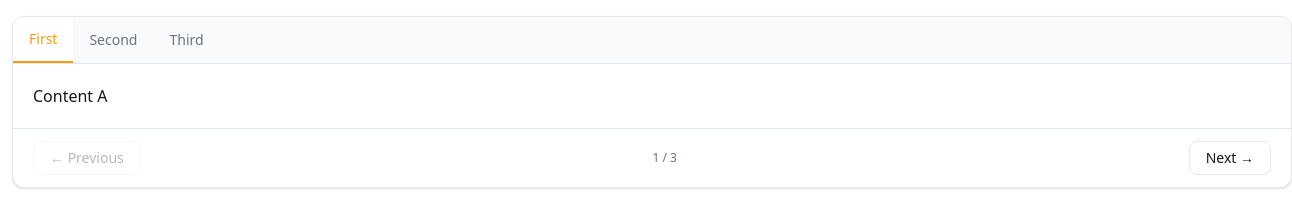
it: TC-19.1.6 Next button advances to next step
Step 1. Click the button "Next →" → (1230, 158), box top-left (1189, 141), bottom-right (1271, 175)
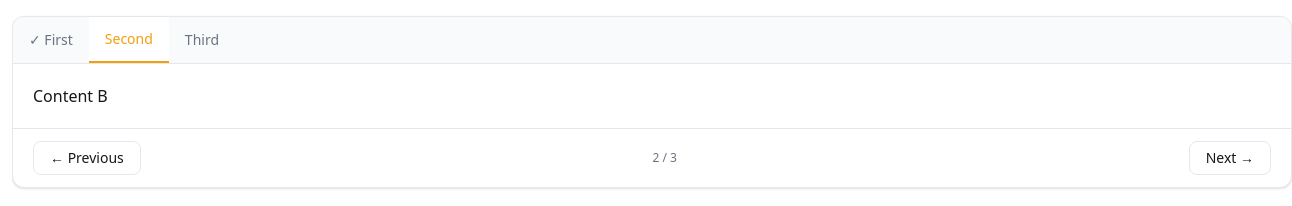
Expected: the panel reads "Content B", top-left (33, 85), bottom-right (108, 107)
